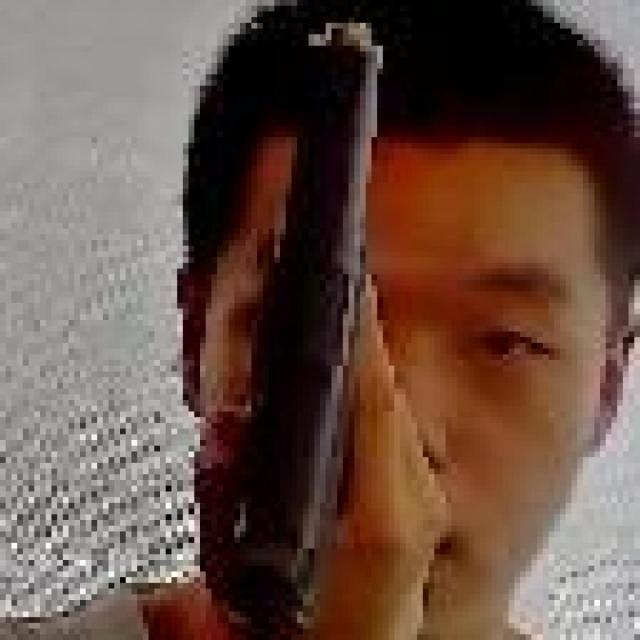pistol: (221, 14, 407, 637)
